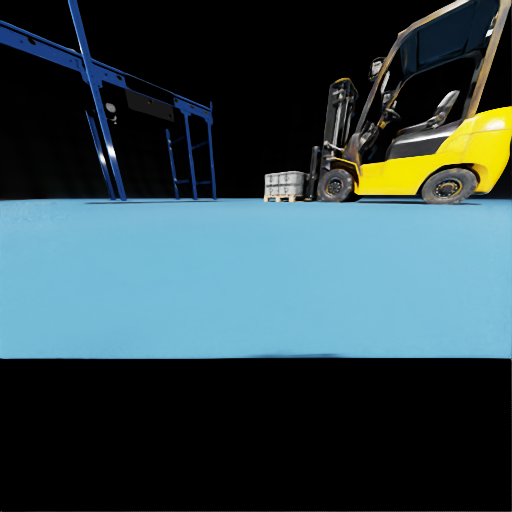transportation_area: (279, 184, 307, 194), (82, 64, 84, 66), (105, 73, 106, 75), (70, 60, 71, 61)
